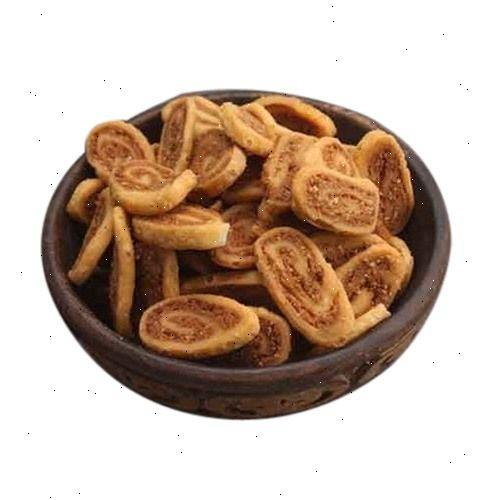bhakarwadi: (61, 93, 417, 362)
